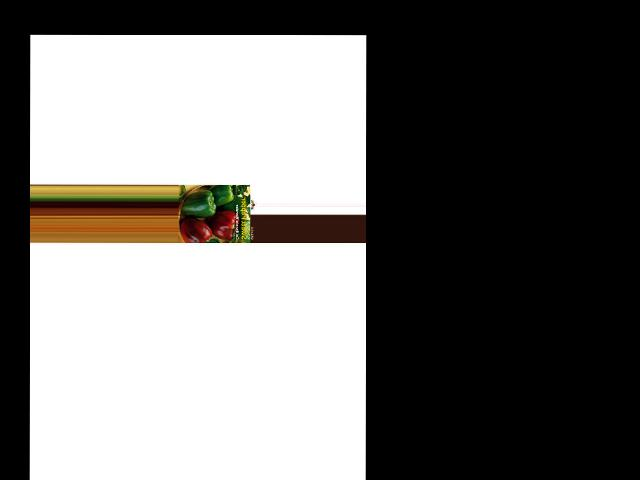bell_pepper: (205, 183, 236, 203)
